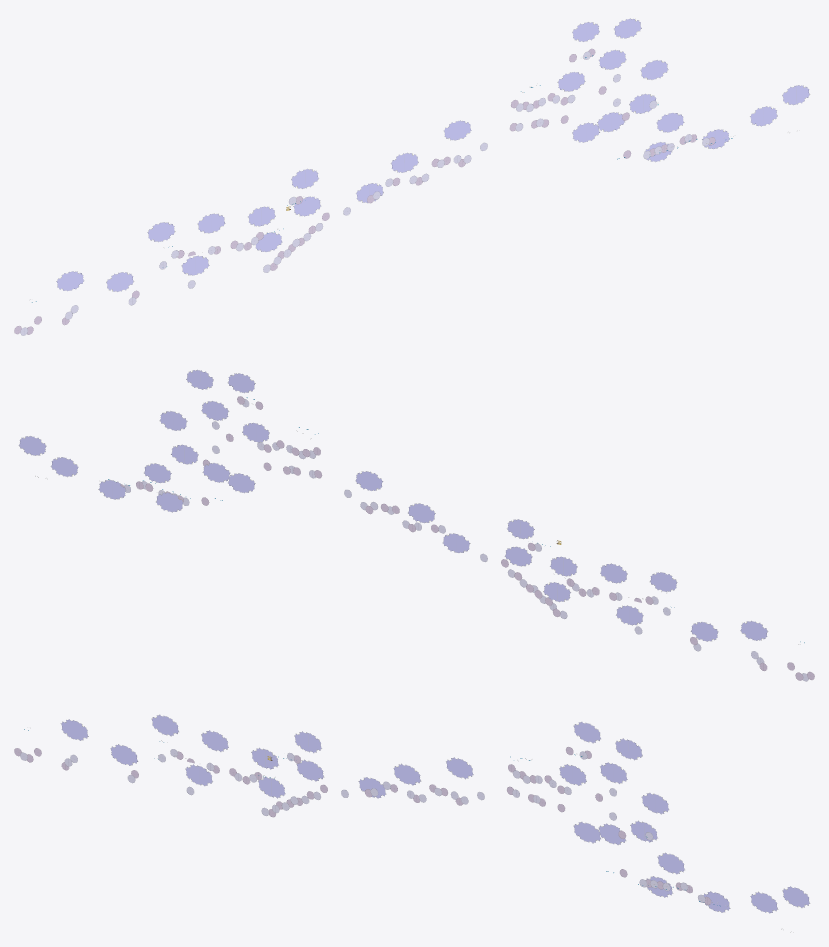
Rendered from snow05_bg.glb.
3 renders of one model, top to bottom at view 1: azimuth 30°, elevation 25°; view 2: azimuth 150°, elevation 25°; view 3: azimuth 330°, elevation 25°, orthographic.
Visible parts, largest first — view 1: snow05_bg; view 2: snow05_bg; view 3: snow05_bg.
Boxes of the visible parts, bbox=[...] form: snow05_bg: bbox=[14, 18, 810, 335]; snow05_bg: bbox=[18, 369, 814, 681]; snow05_bg: bbox=[14, 714, 810, 932].
Size of the model in its own units: 10099 by 2101 by 239.
Materials: 6 (6 with a texture image).
